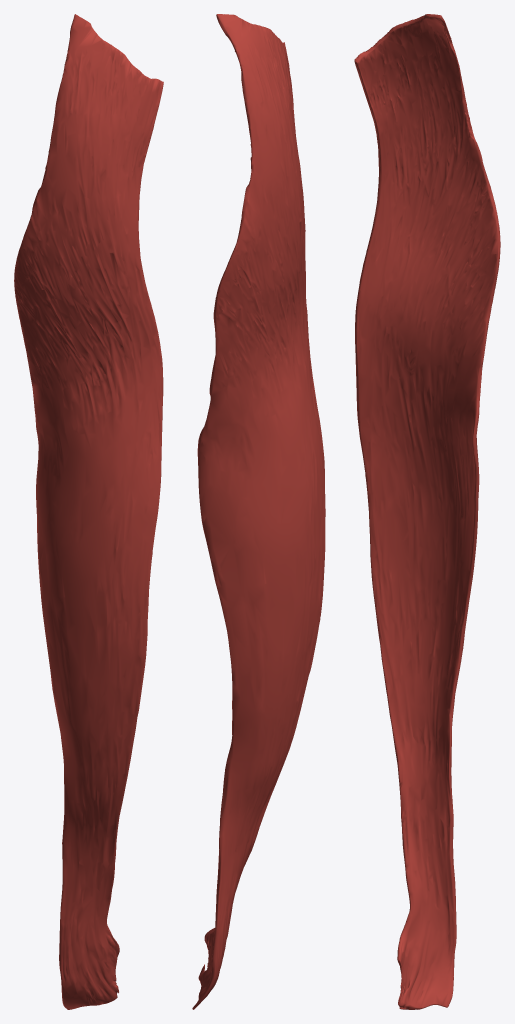
File: musculos-iliotibial-tract-r.glb
3 views of the same model, side by side, from view 1: azimuth 90°, elevation 25°; view 2: azimuth 150°, elevation 25°; view 3: azimuth 270°, elevation 25° (orthographic). The views are drawn at different scales.
Visible parts, largest first — view 1: Iliotibial tract.r; view 2: Iliotibial tract.r; view 3: Iliotibial tract.r.
Part boxes in pixels (left/top/right/bottom): Iliotibial tract.r: left=14, top=14, right=163, bottom=1009; Iliotibial tract.r: left=192, top=14, right=325, bottom=1009; Iliotibial tract.r: left=354, top=14, right=500, bottom=1009.
Size of the model in its own units: 0.0714 by 0.6053 by 0.0816.
